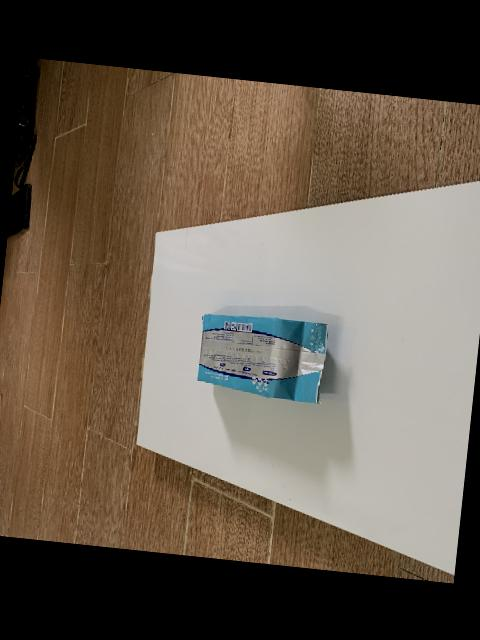Let-green_alcohol_wipes: (197, 313, 329, 403)
